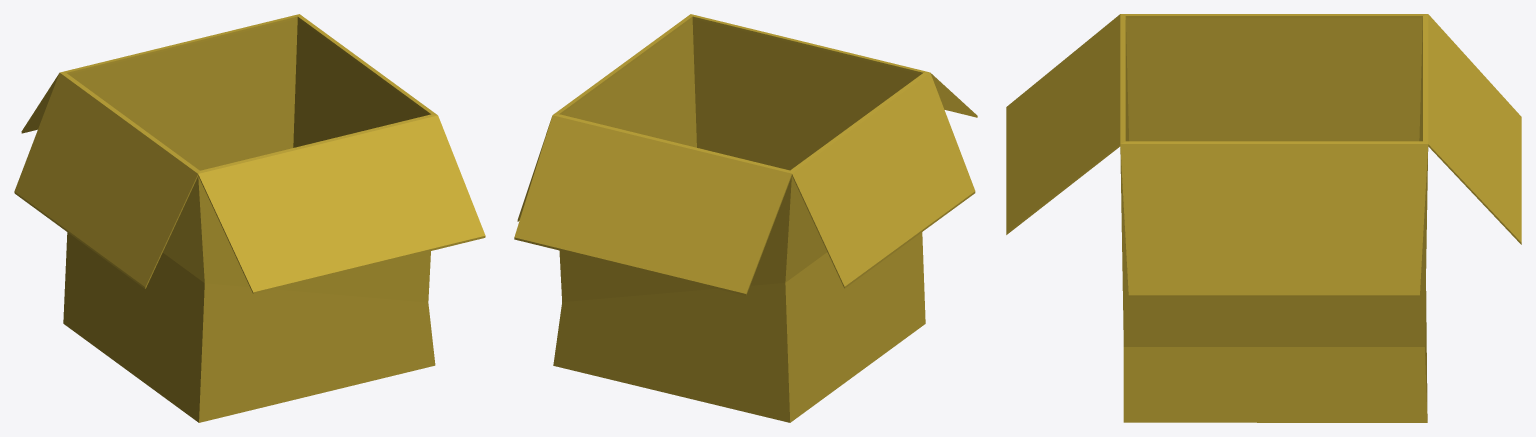
The picture shows the model from 3 angles, left to right: view 1: azimuth 30°, elevation 25°; view 2: azimuth 150°, elevation 25°; view 3: azimuth 270°, elevation 25°; orthographic projection. The views are drawn at different scales.
Parts seen in each view (by area): view 1: box1.001; view 2: box1.001; view 3: box1.001.
Boxes of the visible parts, <box> form: box1.001: <box>14,14,485,422</box>; box1.001: <box>514,14,977,422</box>; box1.001: <box>1006,14,1521,422</box>.
Bounding box in the file's own units: 273 × 200 × 335.
